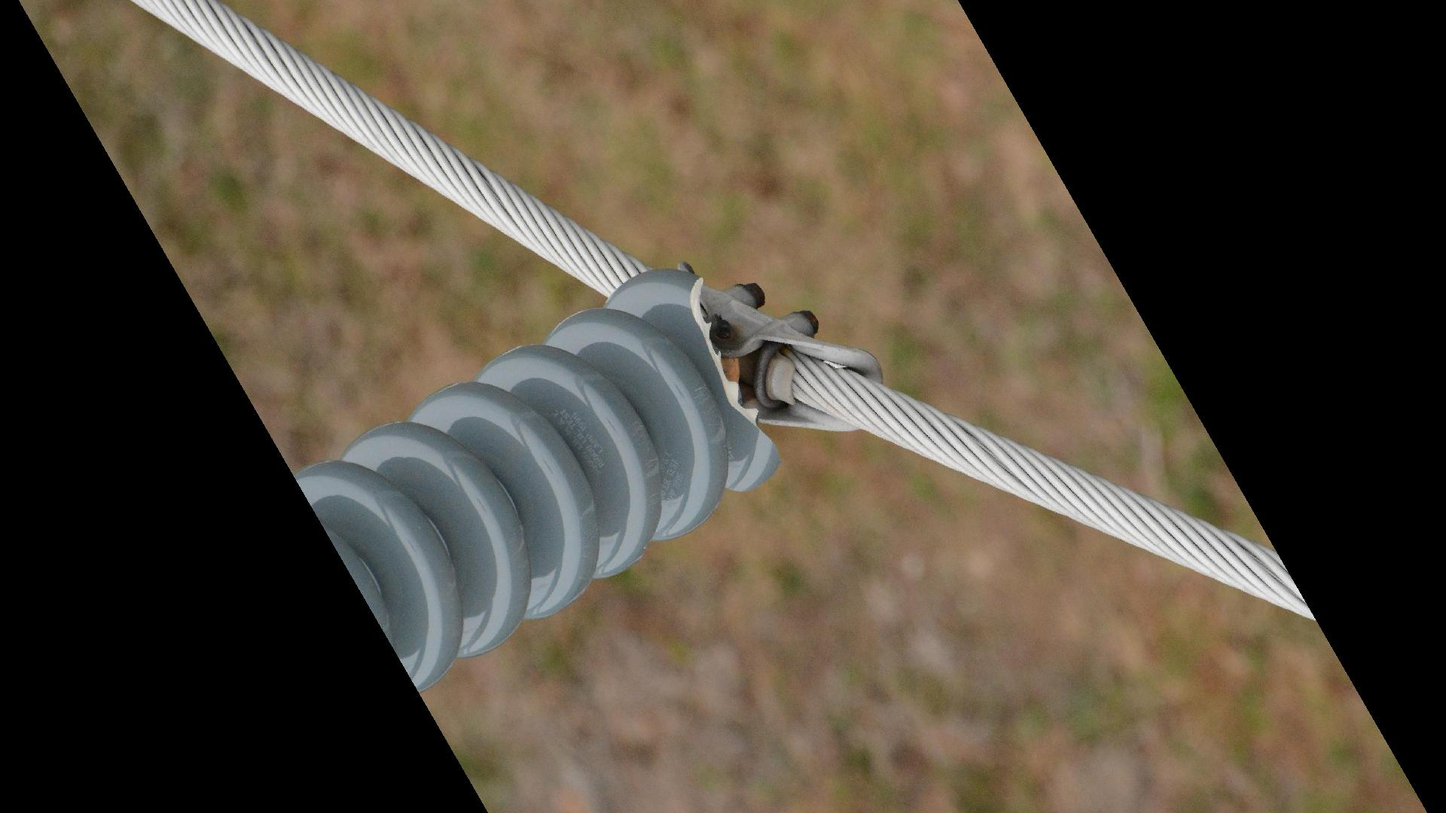insulator: (285, 262, 790, 696)
insulator_breakage: (684, 269, 791, 466)
